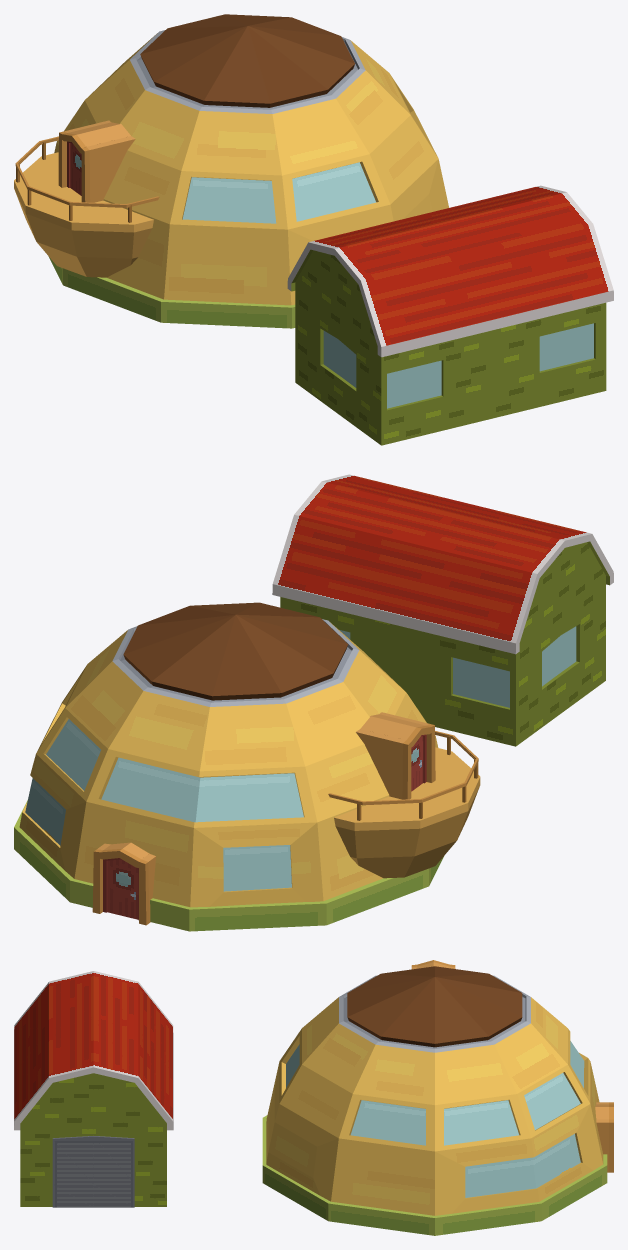
Rendered from W.house_yellow.gltf.
3 views of the same model, one above another, from view 1: azimuth 30°, elevation 25°; view 2: azimuth 150°, elevation 25°; view 3: azimuth 270°, elevation 25° (orthographic). The views are drawn at different scales.
Visible parts, largest first — view 1: s1_1, s1_dop; view 2: s1_1, s1_dop; view 3: s1_1, s1_dop.
Part boxes in pixels (box(x1,y1,x2,y2)): s1_1: box(14, 14, 448, 328); s1_dop: box(287, 185, 613, 445); s1_1: box(14, 602, 480, 931); s1_dop: box(272, 474, 613, 746); s1_1: box(262, 960, 613, 1235); s1_dop: box(14, 971, 173, 1207).
Size of the model in its own units: 5.08 by 2.57 by 7.64.
Materials: 2 (2 with a texture image).
